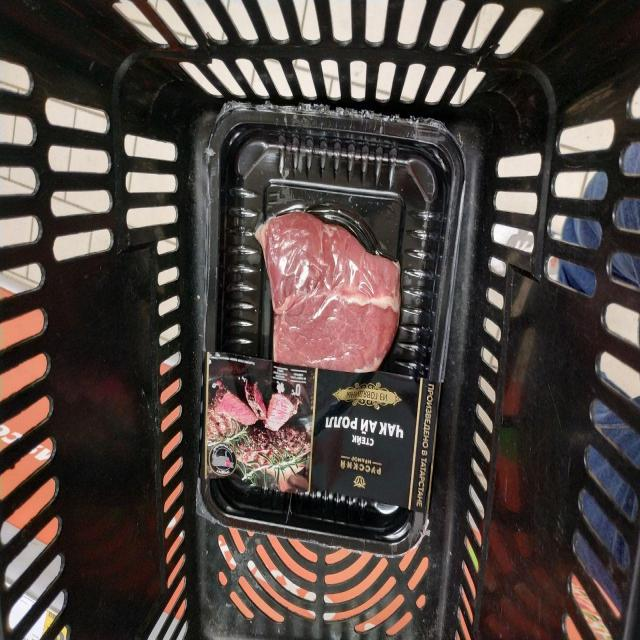Meat: (201, 105, 464, 553)
